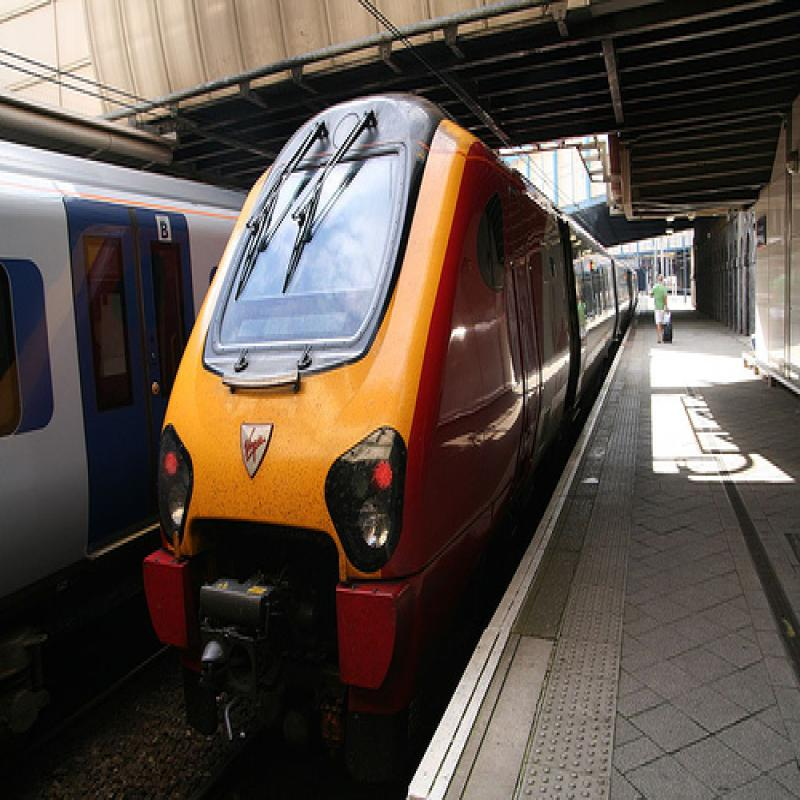train: (134, 92, 643, 751), (1, 133, 251, 736)
